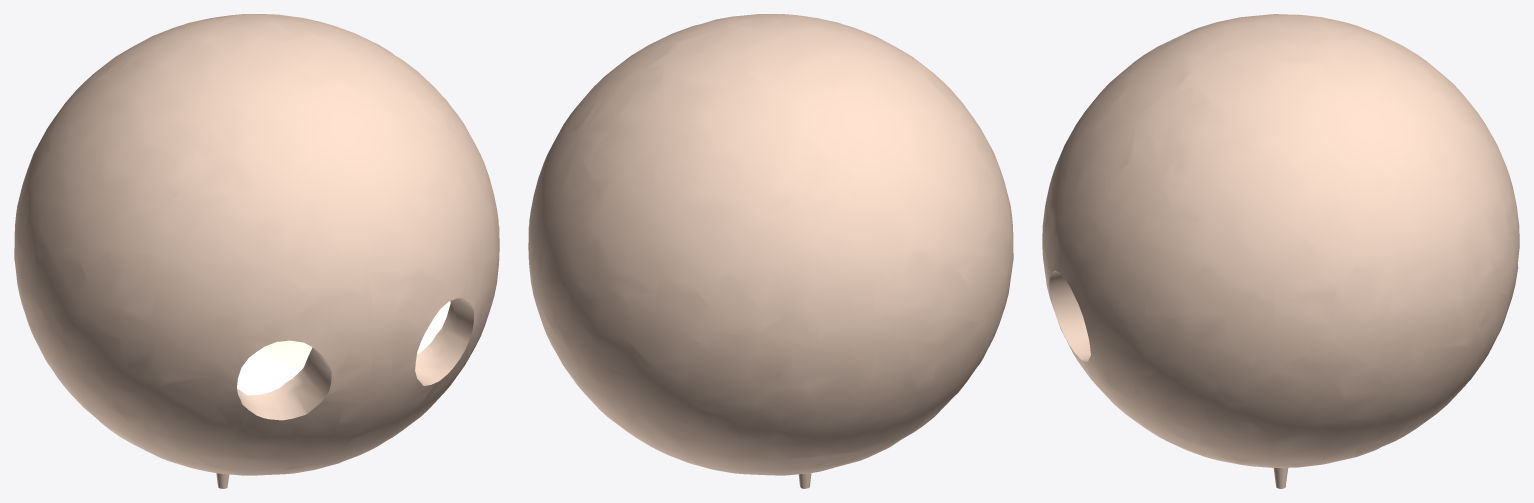
The model's file is aruku_chan_white2.glb.
3 renders of one model, left to right at view 1: azimuth 30°, elevation 25°; view 2: azimuth 150°, elevation 25°; view 3: azimuth 270°, elevation 25°, orthographic.
Visible parts, largest first — view 1: arukuchan_avator.005; view 2: arukuchan_avator.005; view 3: arukuchan_avator.005.
Part boxes in pixels (x1,y1,x2,y2): arukuchan_avator.005: (14, 14, 499, 488); arukuchan_avator.005: (528, 14, 1013, 488); arukuchan_avator.005: (1042, 14, 1519, 488).
Size of the model in its own units: 2.55 by 2.54 by 2.55.
